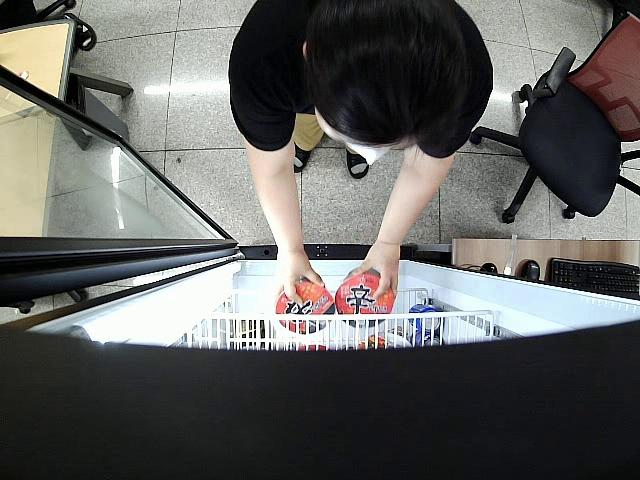00_hand: (349, 244, 401, 299), (273, 250, 323, 307)
01_shinRamen_L: (334, 265, 396, 329), (273, 279, 335, 336)
